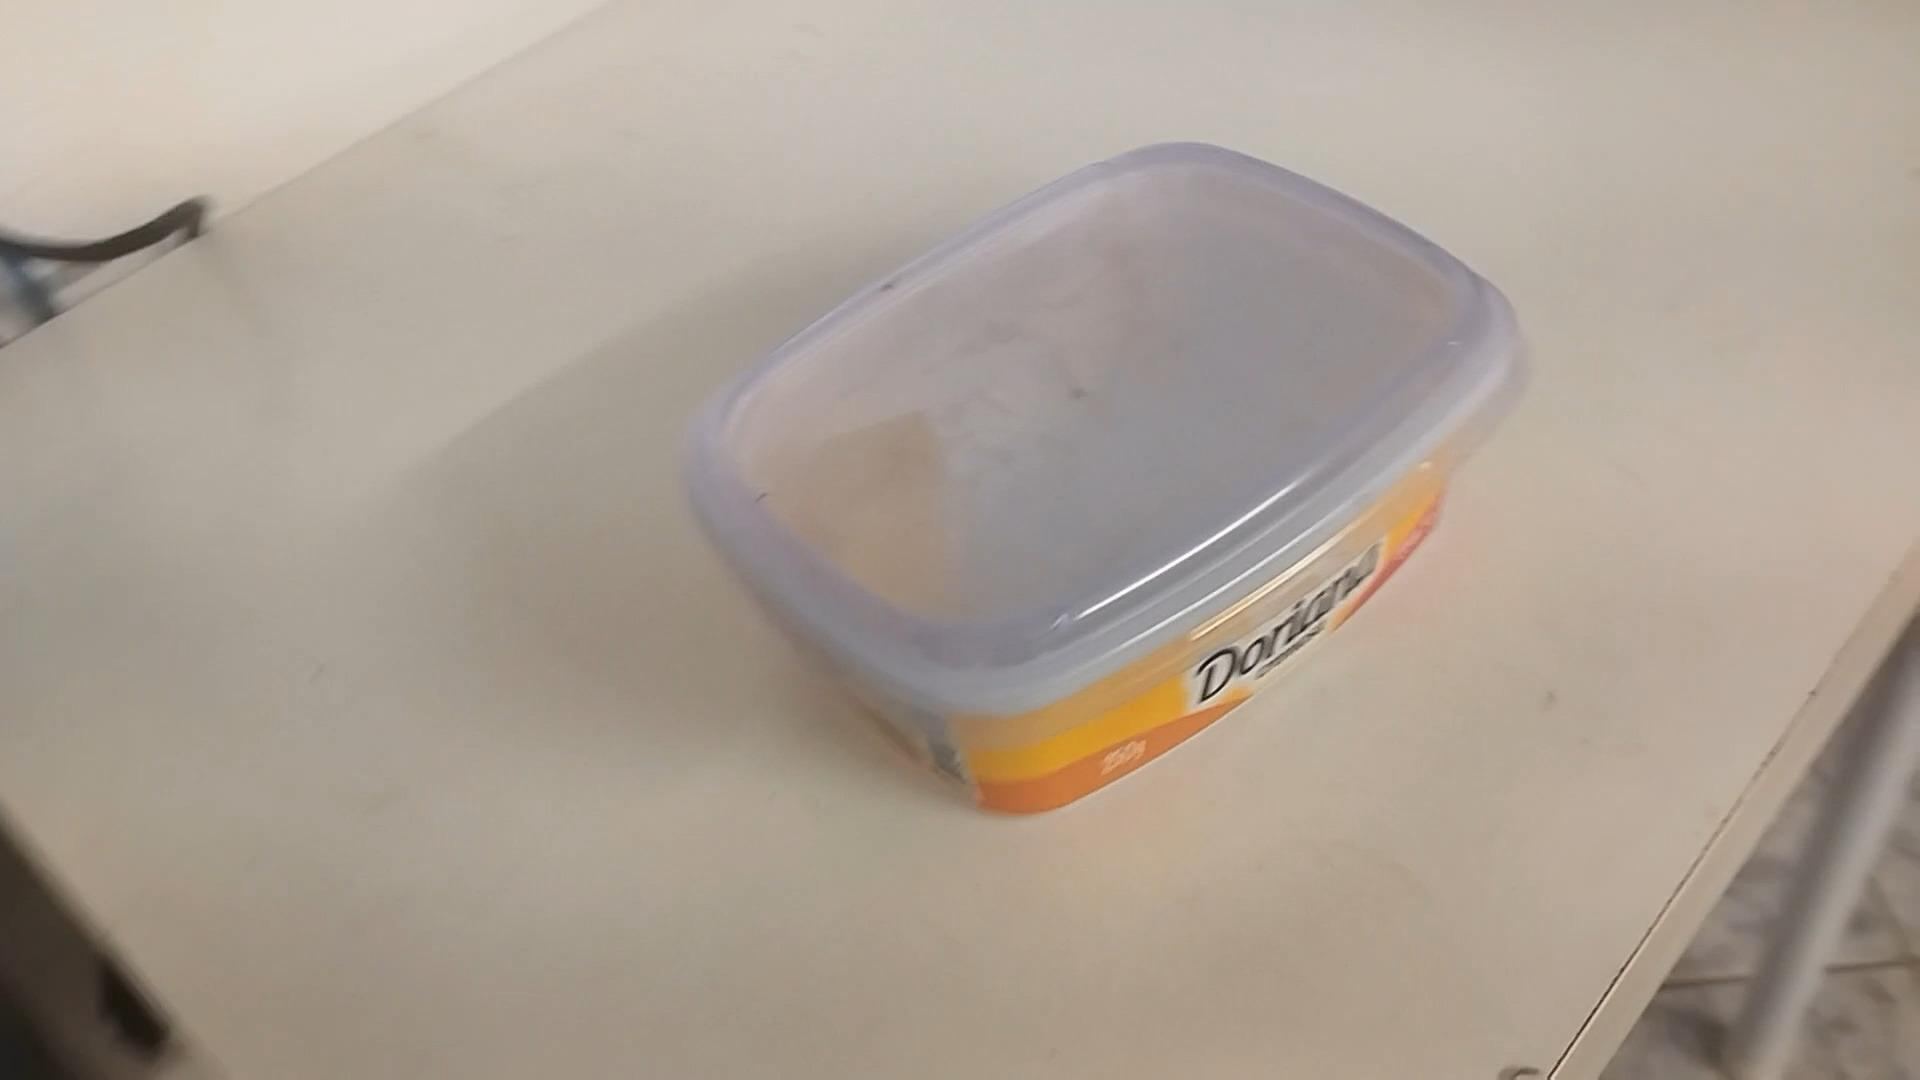butter: (683, 145, 1520, 815)
